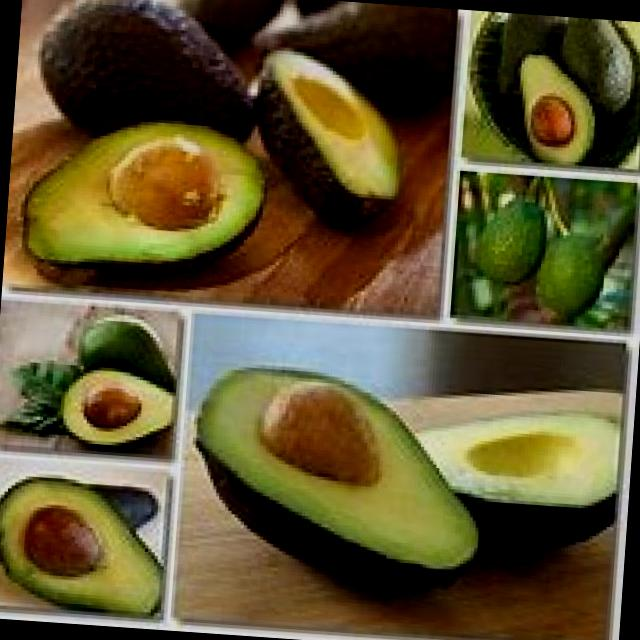avocado: (186, 353, 486, 595), (21, 100, 294, 280), (19, 0, 267, 145), (408, 400, 623, 552), (247, 36, 409, 234), (0, 476, 169, 620), (509, 50, 602, 164), (55, 370, 185, 450), (74, 314, 184, 392), (469, 187, 551, 291), (558, 21, 640, 116), (530, 232, 612, 327)
